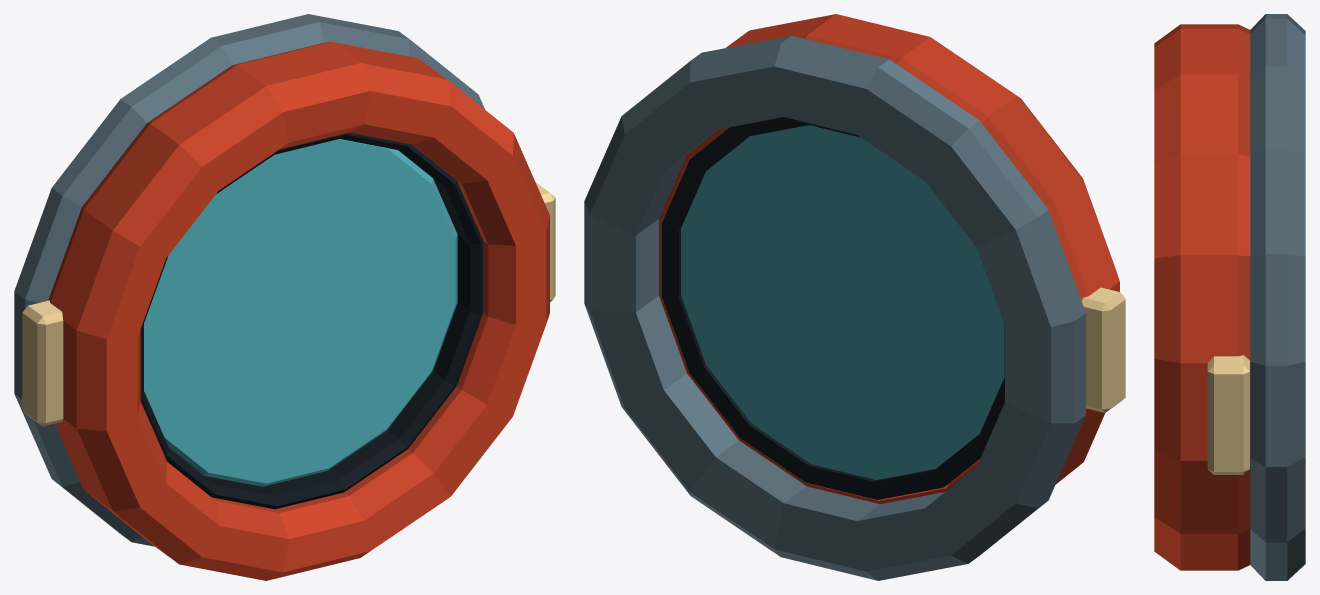
File: QR_FramedPorthole.fbx
The picture shows the model from 3 angles, left to right: view 1: azimuth 30°, elevation 25°; view 2: azimuth 150°, elevation 25°; view 3: azimuth 270°, elevation 25°; orthographic projection.
Visible parts, largest first — view 1: QR_FramedPorthole; view 2: QR_FramedPorthole; view 3: QR_FramedPorthole.
Part boxes in pixels (x1,y1,x2,y2): QR_FramedPorthole: (14, 14, 555, 580); QR_FramedPorthole: (584, 14, 1125, 580); QR_FramedPorthole: (1154, 14, 1305, 580).
Bounding box in the file's own units: 0.518 × 0.4904 × 0.132.
